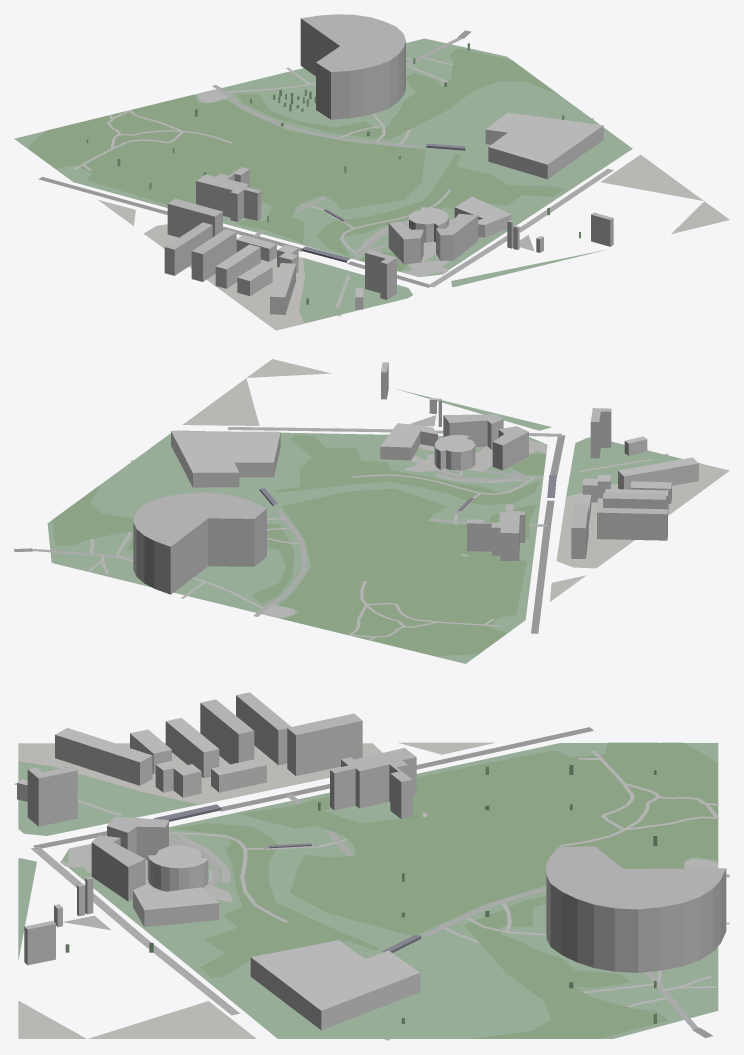
3 views of the same model, one above another, from view 1: azimuth 30°, elevation 25°; view 2: azimuth 150°, elevation 25°; view 3: azimuth 270°, elevation 25° (orthographic). The views are drawn at different scales.
Bounding box in the file's own units: 530 × 50.34 × 512.
